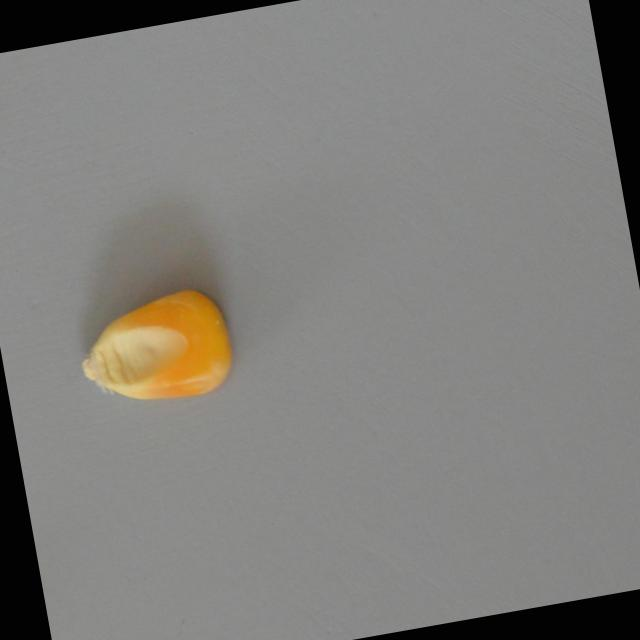no_desgerminado: (68, 278, 241, 414)
